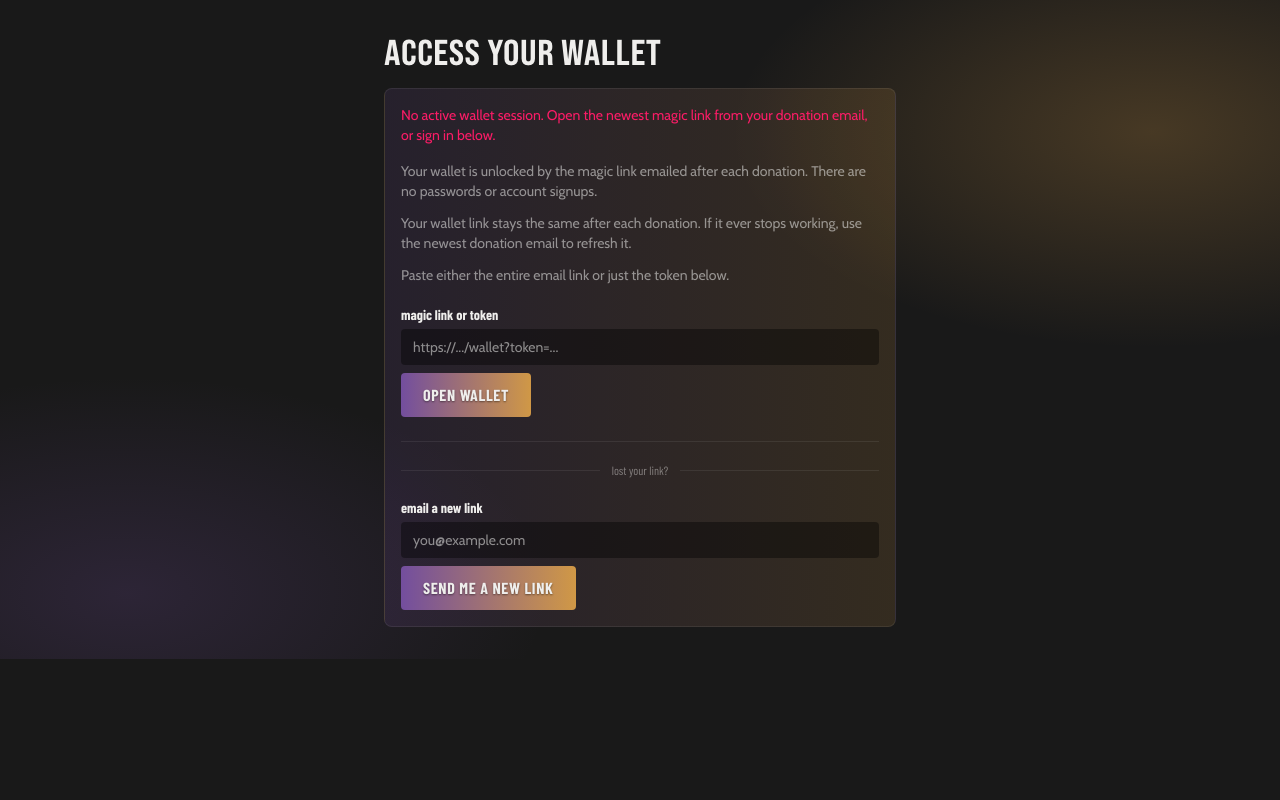
Test: MyWallet › rejects an empty token
Click the button "open wallet" at (466, 395), box [401, 373, 531, 417]
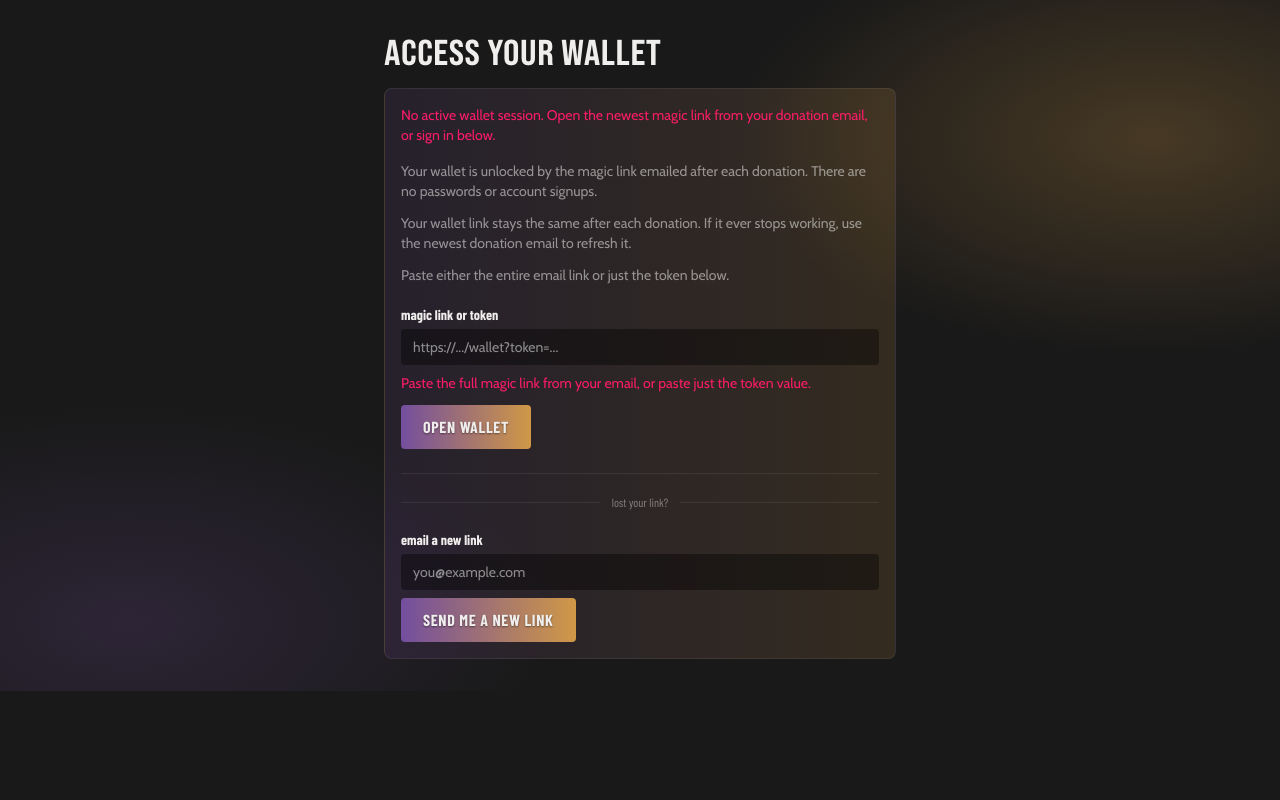
Result: the text "Paste the full magic link from your email" is shown at [401, 374, 811, 392]
